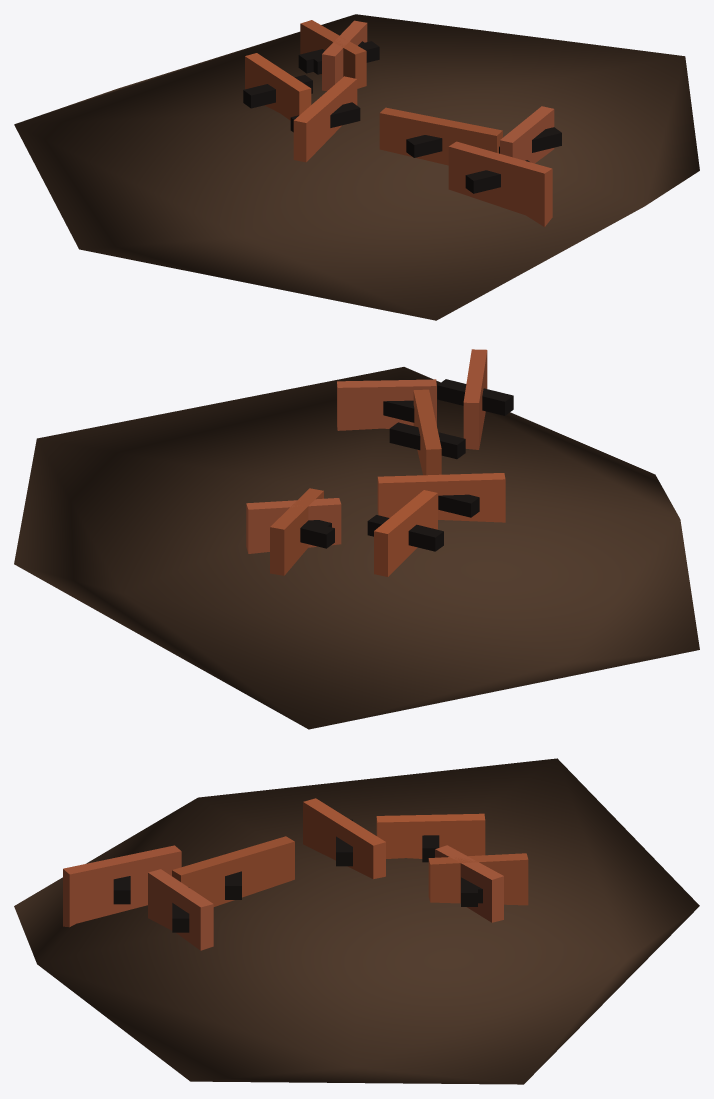
The model's file is PRP_Pottery_Shards_A.glb.
3 views of the same model, one above another, from view 1: azimuth 30°, elevation 25°; view 2: azimuth 150°, elevation 25°; view 3: azimuth 270°, elevation 25° (orthographic). The views are drawn at different scales.
Parts seen in each view (by area): view 1: PRP_Pottery_Shards_A_Mesh; view 2: PRP_Pottery_Shards_A_Mesh; view 3: PRP_Pottery_Shards_A_Mesh.
Part boxes in pixels (x1,y1,x2,y2): PRP_Pottery_Shards_A_Mesh: (14, 14, 699, 320); PRP_Pottery_Shards_A_Mesh: (14, 349, 699, 729); PRP_Pottery_Shards_A_Mesh: (14, 758, 699, 1084).
Size of the model in its own units: 0.9801 by 0.2012 by 0.89.
